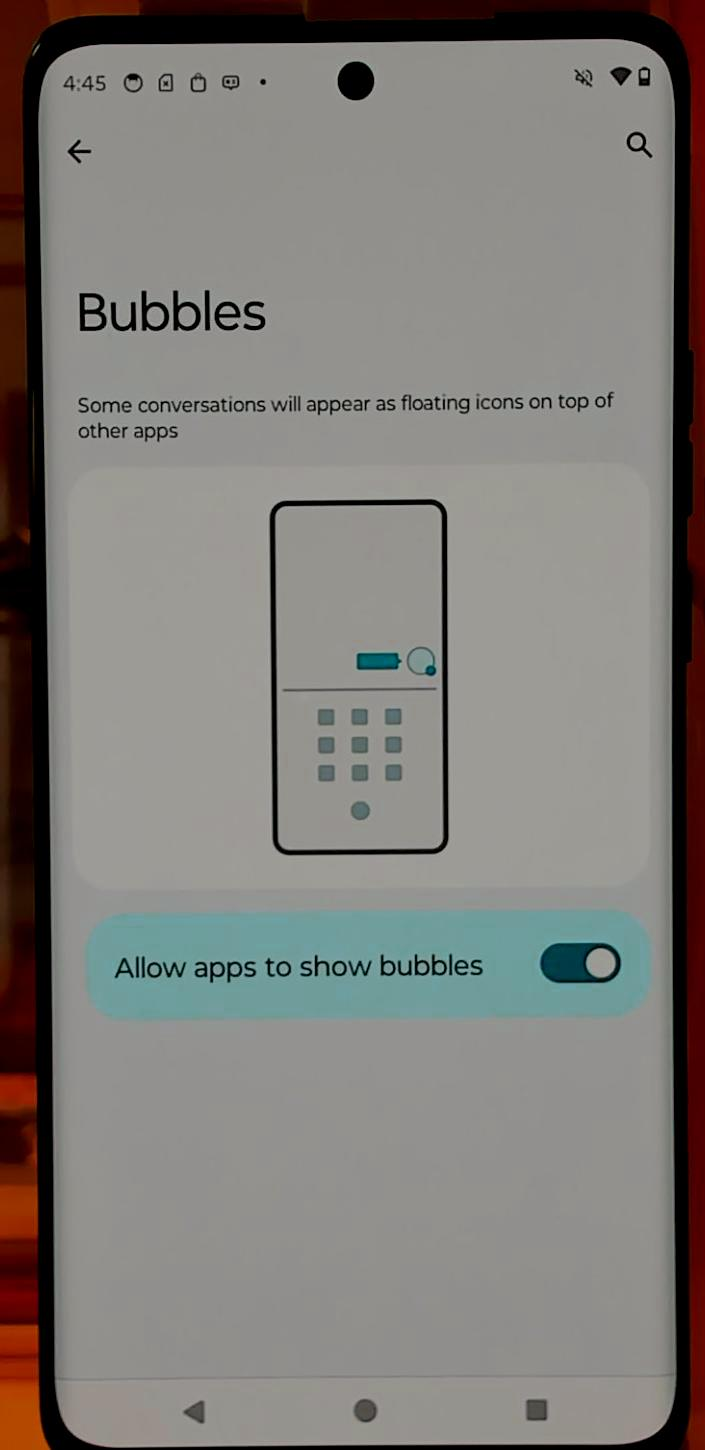Checkbox: (95, 938, 652, 995)
